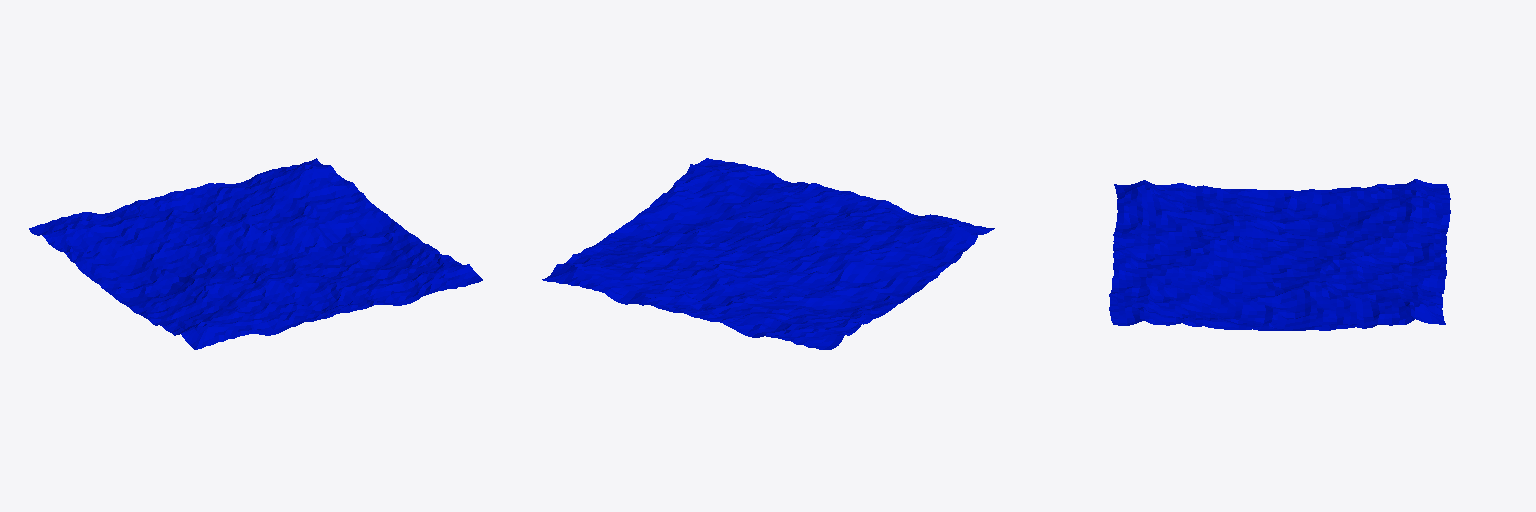
The model's file is ocean.obj.
3 renders of one model, left to right at view 1: azimuth 30°, elevation 25°; view 2: azimuth 150°, elevation 25°; view 3: azimuth 270°, elevation 25°, orthographic.
Parts seen in each view (by area): view 1: Object_4_Object_0; view 2: Object_4_Object_0; view 3: Object_4_Object_0.
Part boxes in pixels (bbox=[...]): Object_4_Object_0: bbox=[29, 158, 482, 349]; Object_4_Object_0: bbox=[542, 158, 994, 349]; Object_4_Object_0: bbox=[1109, 179, 1450, 330].
Size of the model in its own units: 105 by 7.35 by 106.